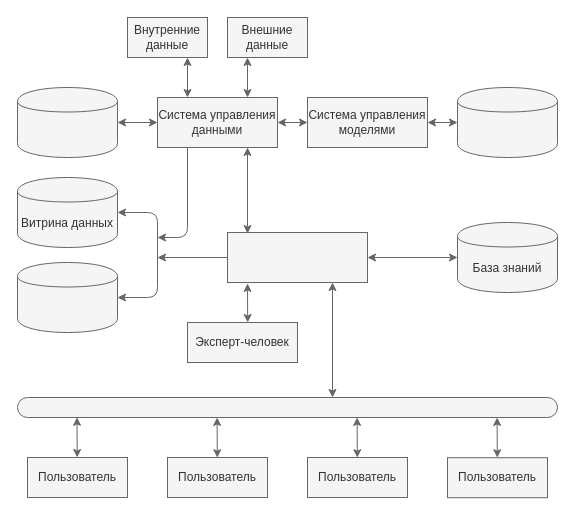
Image size: 575x516. Some labels were removed from this diagram. The shapes that lost their labels are listed below. From the top down, each one's centre as x and y in pixels, then its label:
(67,122): Операционная база данных
(507,122): База моделей
(297,257): Система управления знаниями
(67,297): Хранилище данных
(287,407): Пользовательский интерфейс
